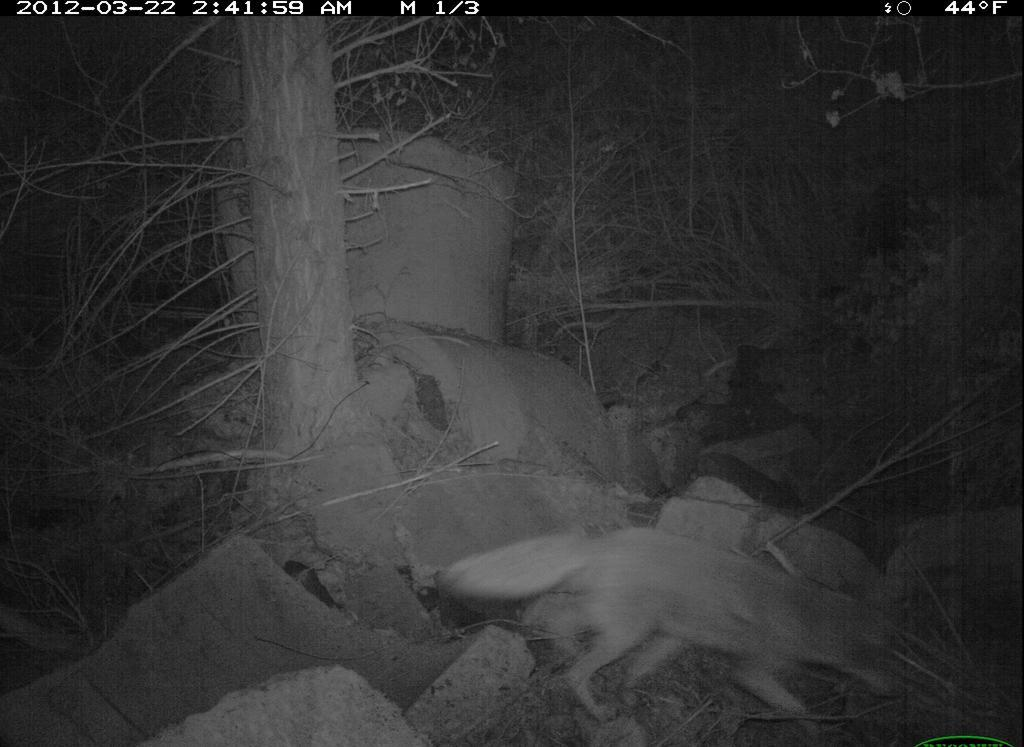coyote: (424, 512, 916, 725)
